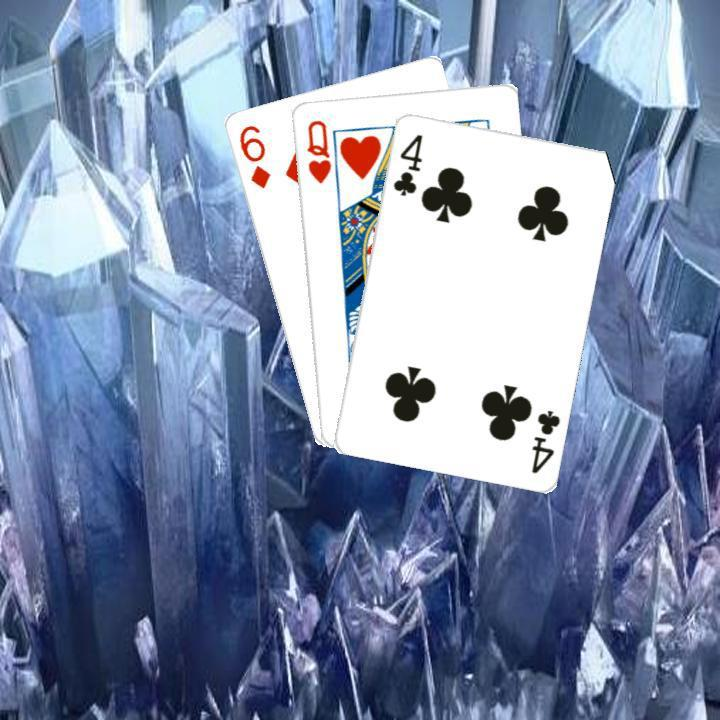4: (526, 405, 562, 475), (388, 129, 424, 197)
6: (234, 120, 272, 190)
Q: (302, 115, 333, 185)
